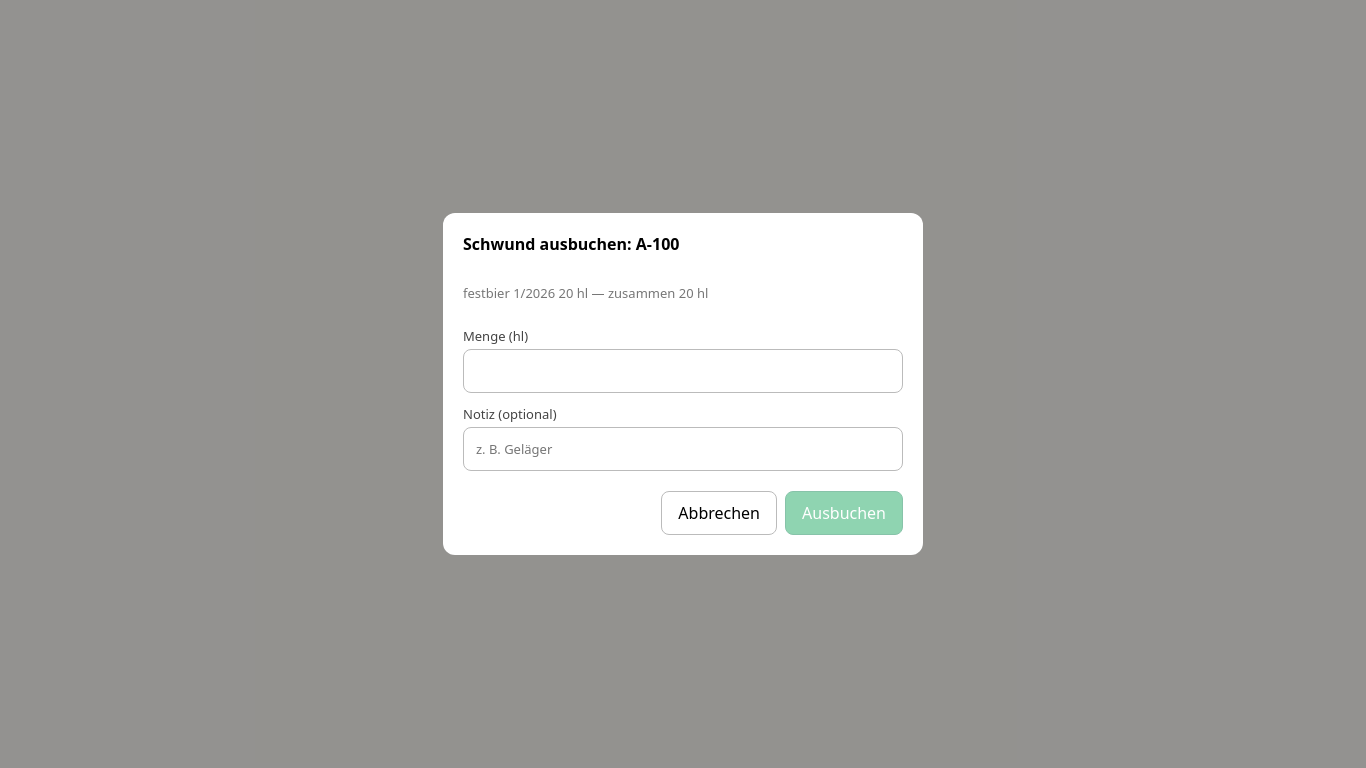
Test: TankWithdrawDialog (Blending) › sperrt Buchungen über dem Tankinhalt
Step 1. Type "25" into the number field labelled "Menge (hl)" → (683, 371), box top-left (463, 349), bottom-right (903, 393)
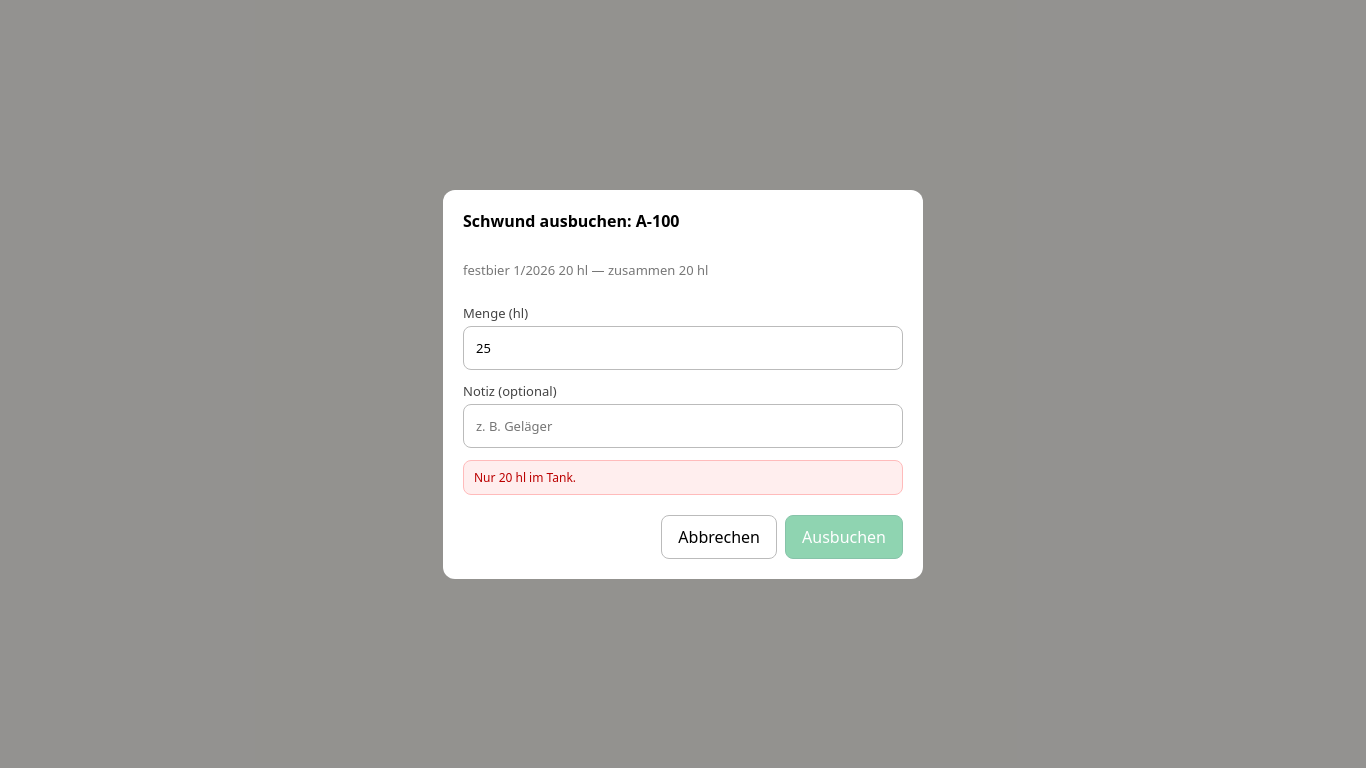
Expected: the button "Ausbuchen" is disabled, top-left (785, 514), bottom-right (903, 558)
Expected: the text "Nur 20 hl im Tank." is shown, top-left (463, 460), bottom-right (903, 494)
